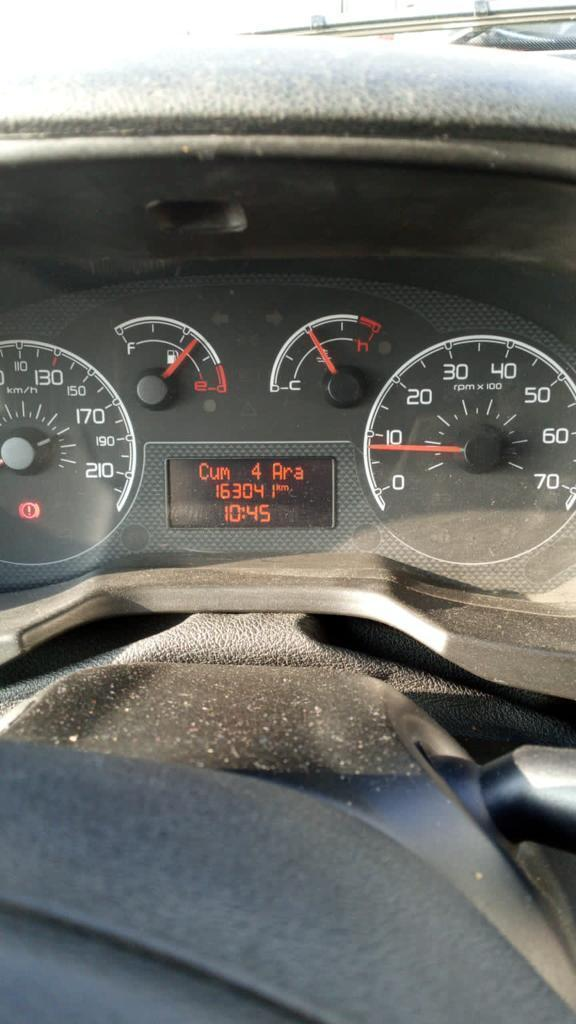0: (228, 503, 240, 522), (241, 482, 252, 499)
1: (221, 504, 228, 522), (213, 482, 219, 499), (269, 483, 275, 499)
3: (231, 482, 241, 499)
4: (250, 460, 262, 481), (252, 482, 264, 499), (246, 504, 258, 521)
5: (258, 503, 270, 523)
6: (219, 482, 230, 500)
X: (270, 461, 282, 481), (197, 461, 209, 481), (293, 465, 304, 481), (282, 465, 293, 480), (219, 466, 230, 480), (209, 465, 219, 480), (275, 481, 281, 492), (241, 506, 246, 519), (281, 483, 288, 492)
odometer: (163, 455, 337, 531)
